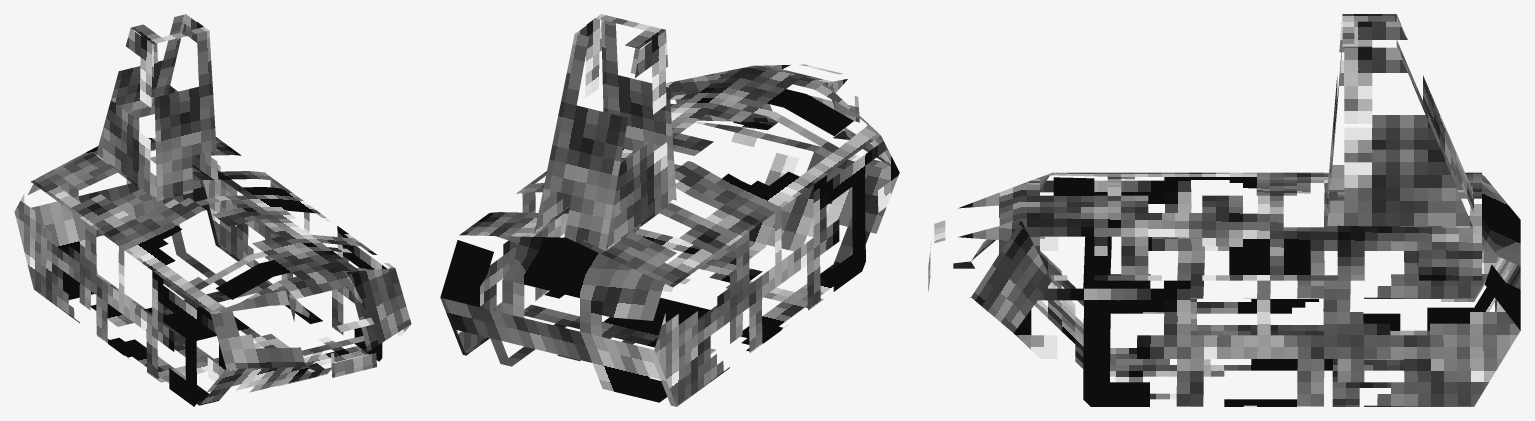
The model's file is aerospotter_wreck.glb.
The picture shows the model from 3 angles, left to right: view 1: azimuth 30°, elevation 25°; view 2: azimuth 150°, elevation 25°; view 3: azimuth 270°, elevation 25°; orthographic projection. The views are drawn at different scales.
Visible parts, largest first — view 1: AeroSpotterL1; view 2: AeroSpotterL1; view 3: AeroSpotterL1.
Boxes of the visible parts, <box> form: AeroSpotterL1: <box>14,14,411,406</box>; AeroSpotterL1: <box>440,14,899,406</box>; AeroSpotterL1: <box>928,14,1520,406</box>.
Bounding box in the file's own units: 4.95 × 6.9 × 11.47.
1 material, 1 textured.
